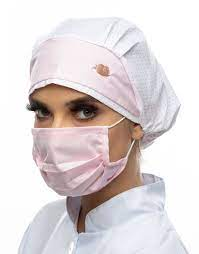with_mask_and_cap: (29, 22, 144, 195)
